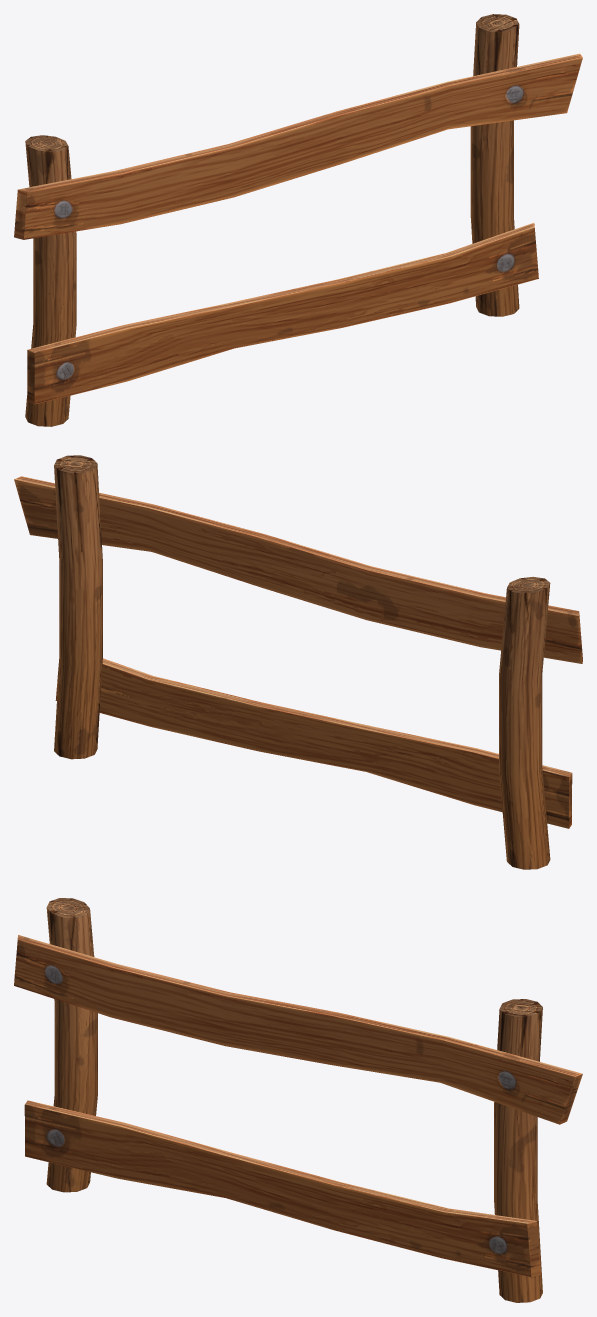
Rendered from Fences03_2.FBX.
The picture shows the model from 3 angles, top to bottom: view 1: azimuth 30°, elevation 25°; view 2: azimuth 150°, elevation 25°; view 3: azimuth 330°, elevation 25°; orthographic projection.
Parts seen in each view (by area): view 1: Fences03_2; view 2: Fences03_2; view 3: Fences03_2.
Part boxes in pixels (x1=…): Fences03_2: x1=14, y1=14, x2=582, y2=426; Fences03_2: x1=14, y1=455, x2=582, y2=869; Fences03_2: x1=14, y1=898, x2=582, y2=1302.
Size of what is drawn, in the model's own units: 1.3 by 0.625 by 0.1028.
